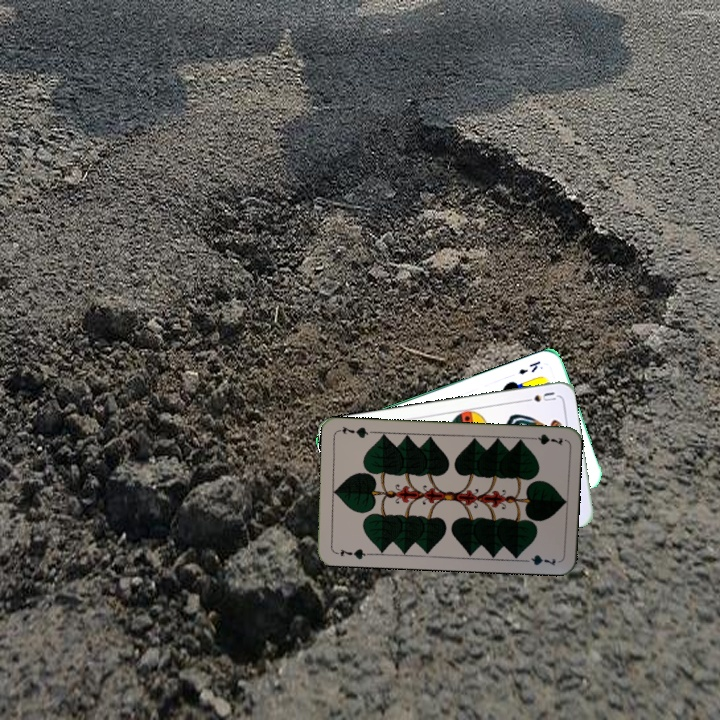EK: (515, 357, 543, 377)
G7: (331, 545, 372, 562), (525, 430, 565, 447)
SU: (519, 388, 559, 405)
